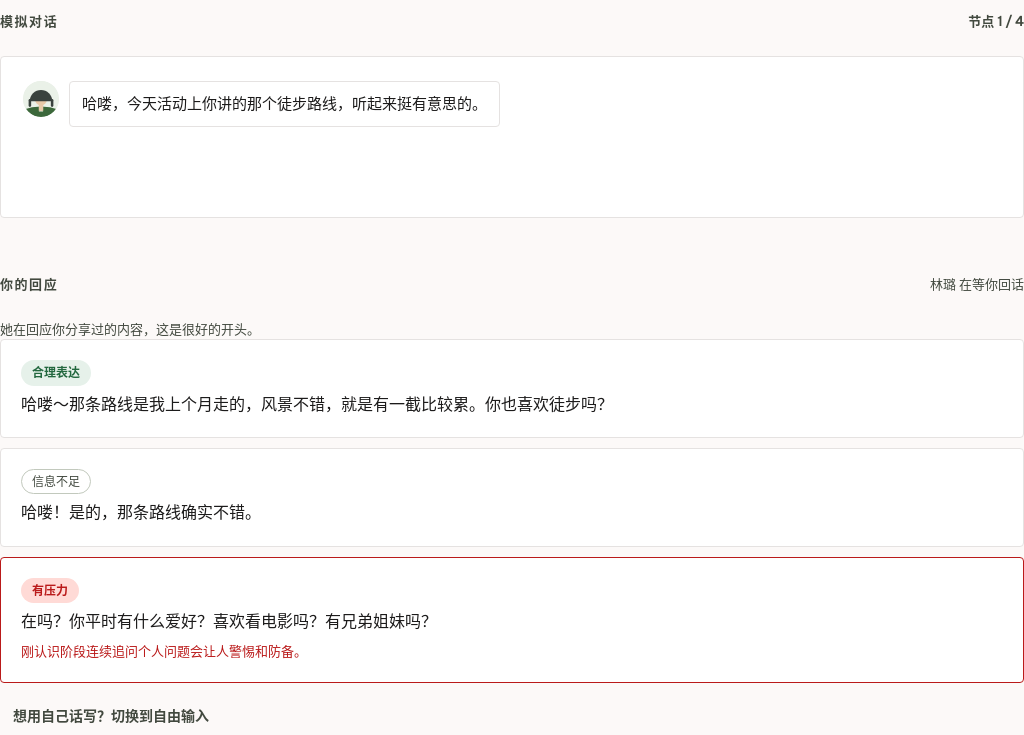
Test case: 模拟对话页 › 危险选项有边界提示且反馈为警告样式
This screenshot has width=1024, height=735.
(page scrolled)
Click the button "有压力 在吗？你平时有什么爱好？喜欢看电影吗？有兄弟姐妹吗？ 刚认识阶段连续追问个人问题会让人警惕和防备。" at (50, 591), box [0,557,1023,683]
(page scrolled)
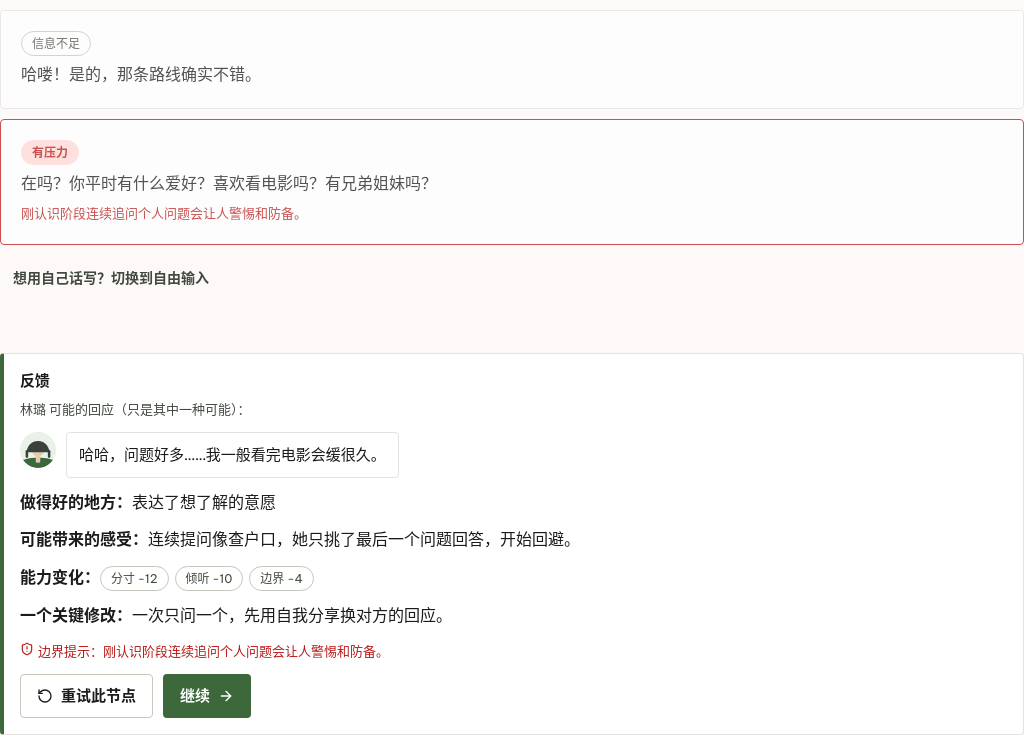
Expected: the text "边界提示：刚认识阶段连续追问个人问题会让人警惕和防备。" is shown, [20,642,389,659]
Expected: the text "可能带来的感受：连续提问像查户口，她只挑了最后一个问题回答，开始回避。" is shown, [20,530,580,550]
